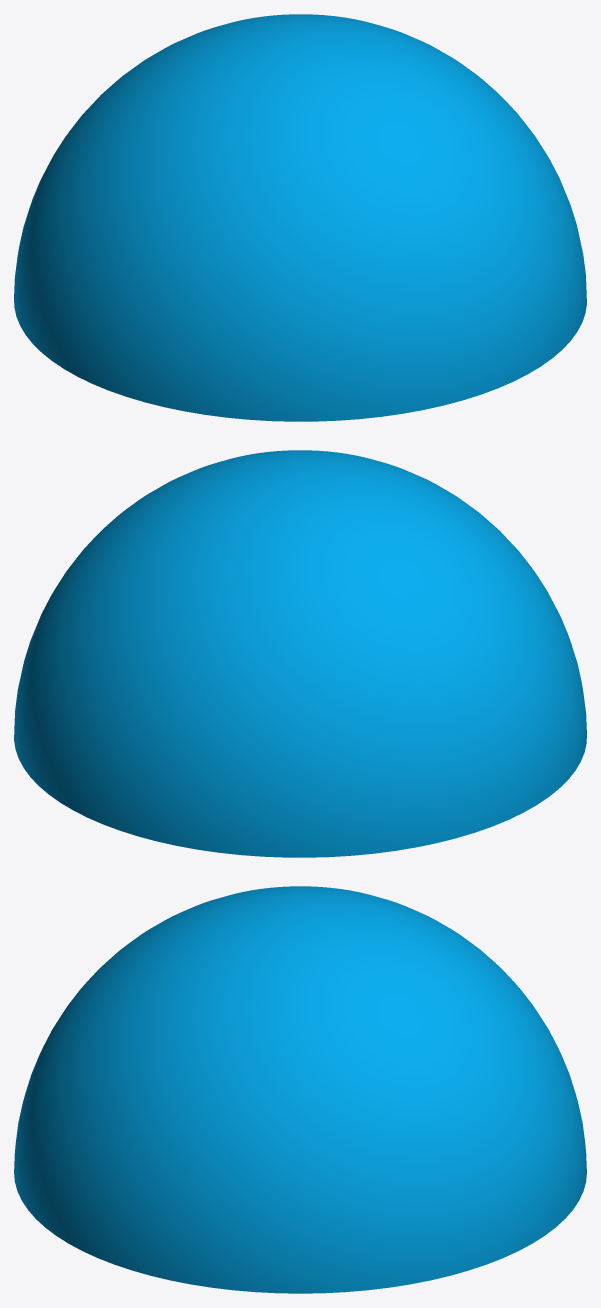
File: cloud.glb
The picture shows the model from 3 angles, top to bottom: view 1: azimuth 30°, elevation 25°; view 2: azimuth 150°, elevation 25°; view 3: azimuth 270°, elevation 25°; orthographic projection.
Visible parts, largest first — view 1: P_126_Sky_final:town_sky_sky_P_126_Sky_final:p_999_town_sky_; view 2: P_126_Sky_final:town_sky_sky_P_126_Sky_final:p_999_town_sky_; view 3: P_126_Sky_final:town_sky_sky_P_126_Sky_final:p_999_town_sky_.
Part boxes in pixels (x1,y1,x2,y2): P_126_Sky_final:town_sky_sky_P_126_Sky_final:p_999_town_sky_: (14, 14, 586, 421); P_126_Sky_final:town_sky_sky_P_126_Sky_final:p_999_town_sky_: (14, 450, 586, 857); P_126_Sky_final:town_sky_sky_P_126_Sky_final:p_999_town_sky_: (14, 886, 586, 1293).
Bounding box in the file's own units: 82.54 × 41.27 × 82.54.
